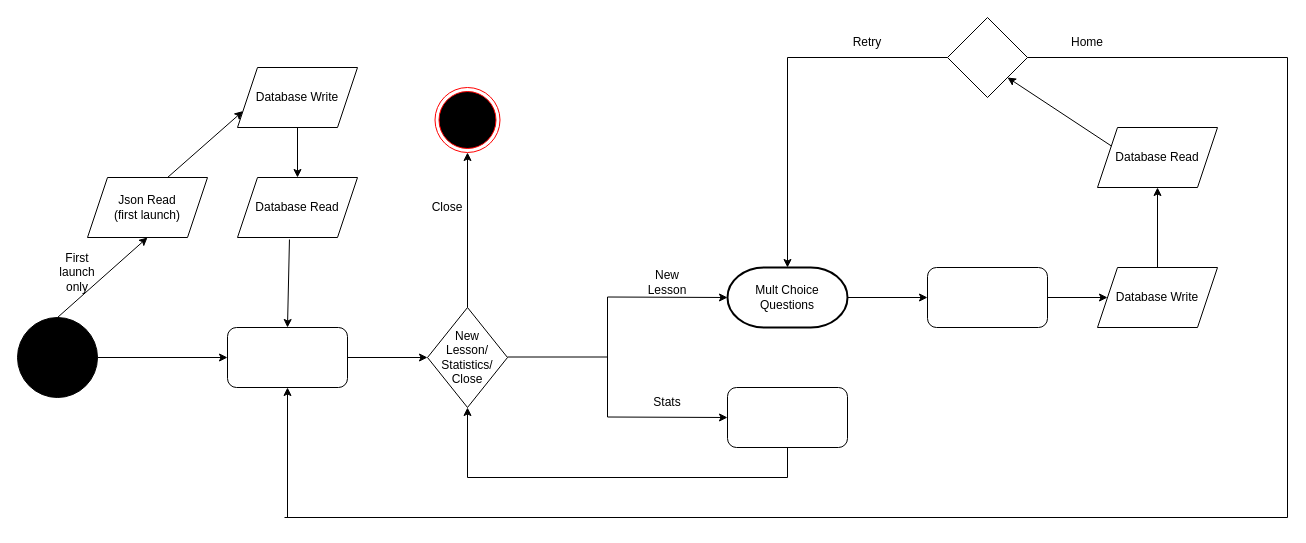
This 1306x543 diagram has some shape labels left out. Here are the shapes that lost their labels. From the top down, the centre of each, then its label:
At pixel 987 57: "Home/Retry".
At pixel 987 297: "Summary Page".
At pixel 287 357: "HomePage".
At pixel 787 417: "Statistics Page".
